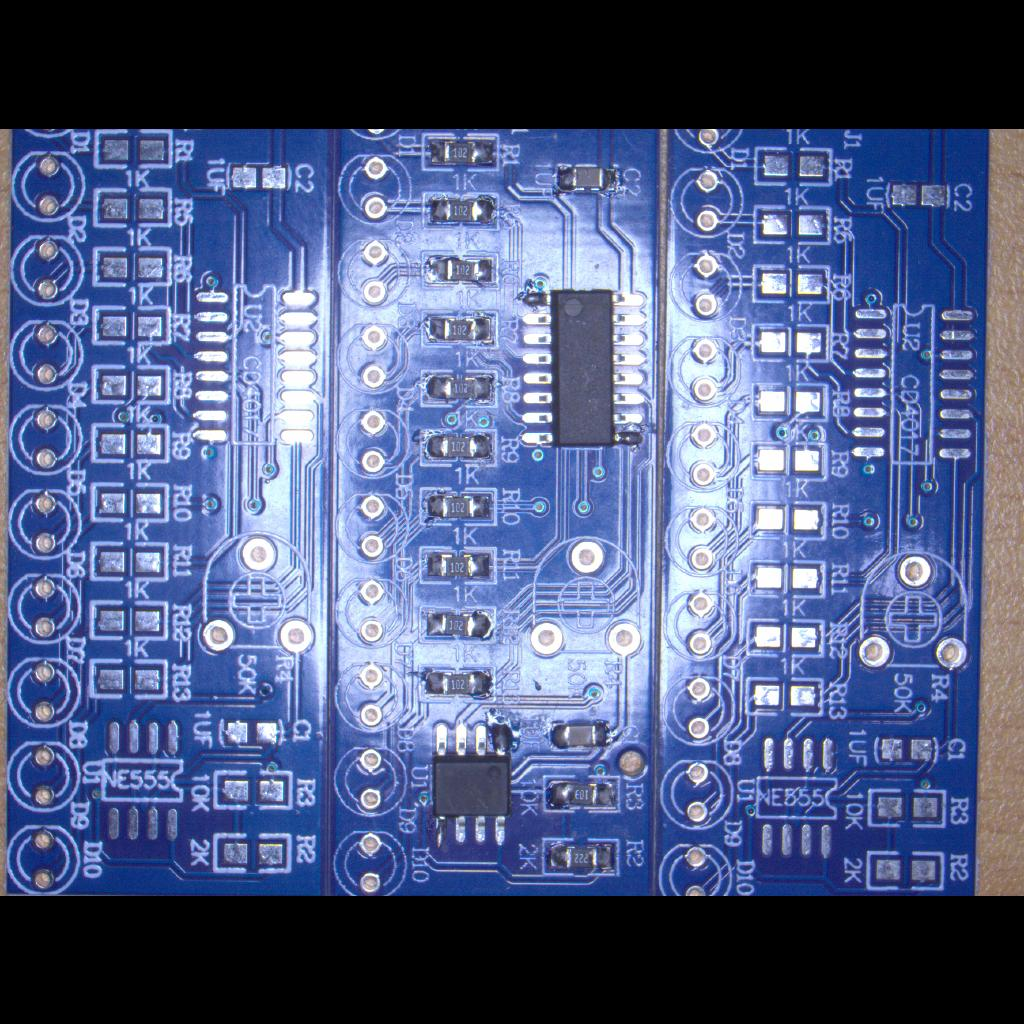NG: (184, 278, 326, 454), (845, 296, 977, 474), (756, 728, 844, 866), (98, 710, 186, 846), (208, 828, 294, 878), (86, 360, 174, 408), (89, 300, 175, 348), (86, 478, 172, 526), (748, 200, 834, 248), (208, 766, 296, 812), (864, 784, 948, 832), (86, 596, 172, 642), (878, 171, 960, 219), (748, 262, 836, 306), (90, 184, 174, 230), (90, 244, 174, 290), (88, 419, 172, 465), (86, 654, 170, 700), (752, 142, 836, 188), (745, 497, 829, 543), (742, 674, 826, 720), (86, 538, 170, 582), (748, 321, 832, 365), (744, 616, 828, 660), (750, 438, 830, 484), (863, 850, 949, 892), (746, 556, 828, 600), (750, 378, 828, 424), (217, 154, 299, 196), (91, 130, 177, 170), (211, 712, 291, 754), (864, 728, 944, 770)
OK: (514, 278, 652, 458), (424, 714, 520, 858), (416, 422, 502, 470), (416, 365, 500, 413), (418, 482, 500, 530), (418, 128, 502, 174), (534, 714, 626, 756), (418, 188, 504, 232), (416, 248, 502, 292), (417, 306, 501, 350), (415, 544, 499, 588), (417, 603, 499, 647), (544, 159, 628, 201), (418, 662, 498, 704), (542, 772, 622, 814), (541, 836, 621, 878)
